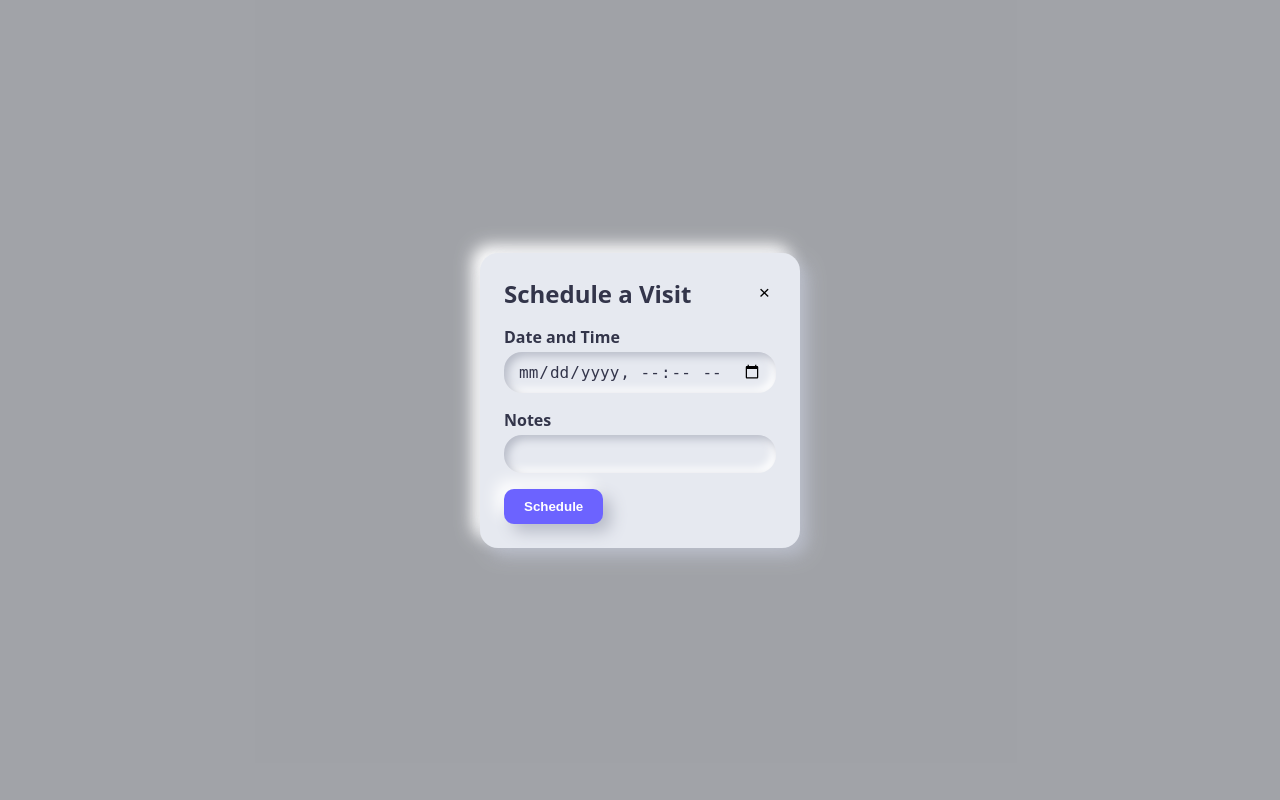
Test: ScheduleVisitModal › rejects a past date
Type "2020-01-01T10:00" into the field labelled "Date and Time" at (640, 372), box [504,352,776,392]
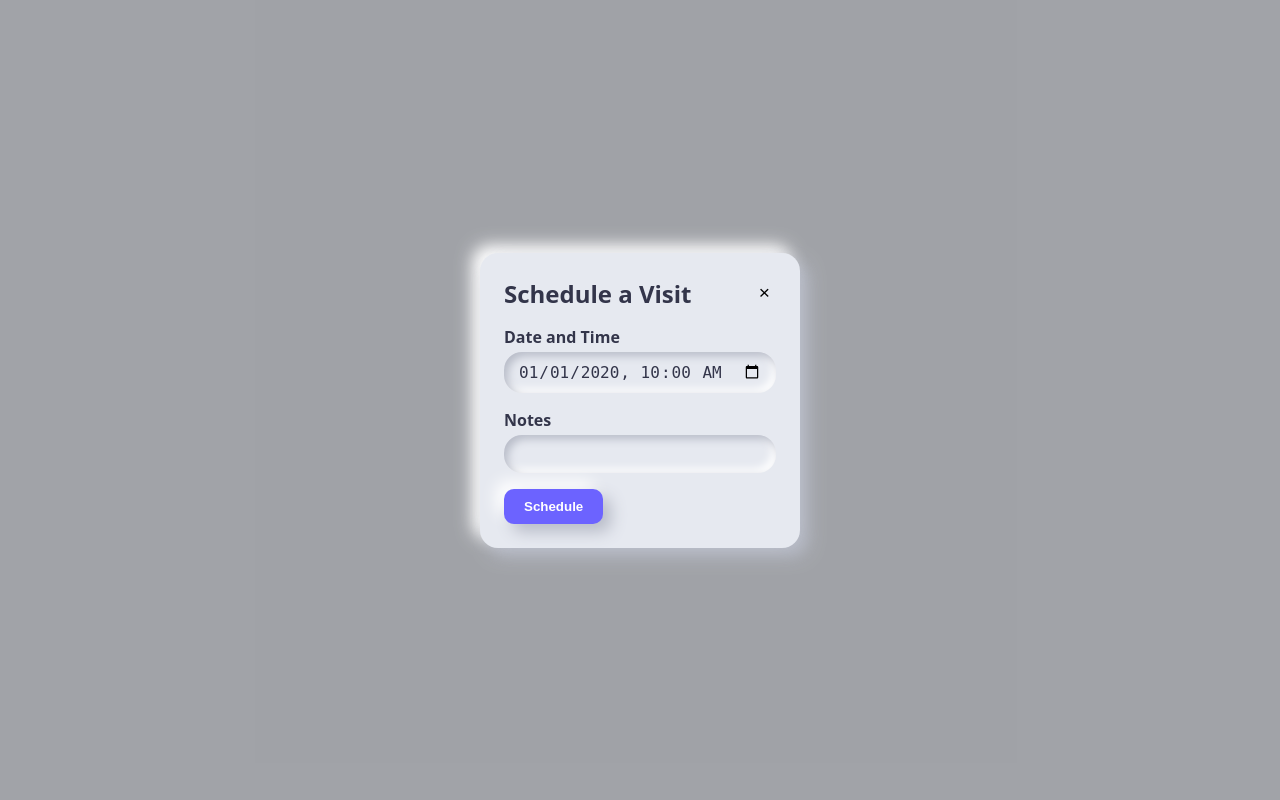
Click the button "Schedule" at (554, 506), box [504,488,603,524]
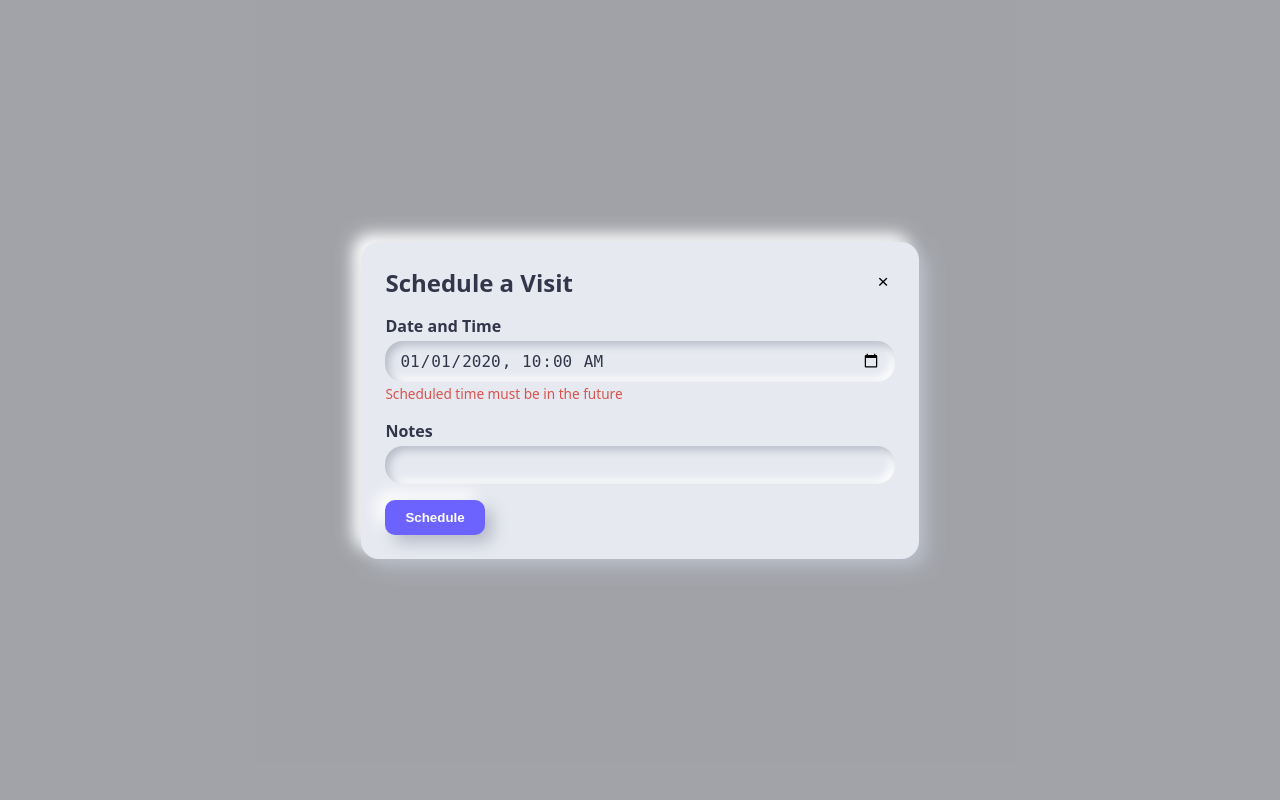
Expected: the text "Scheduled time must be in the future" is shown, [385,384,623,402]
